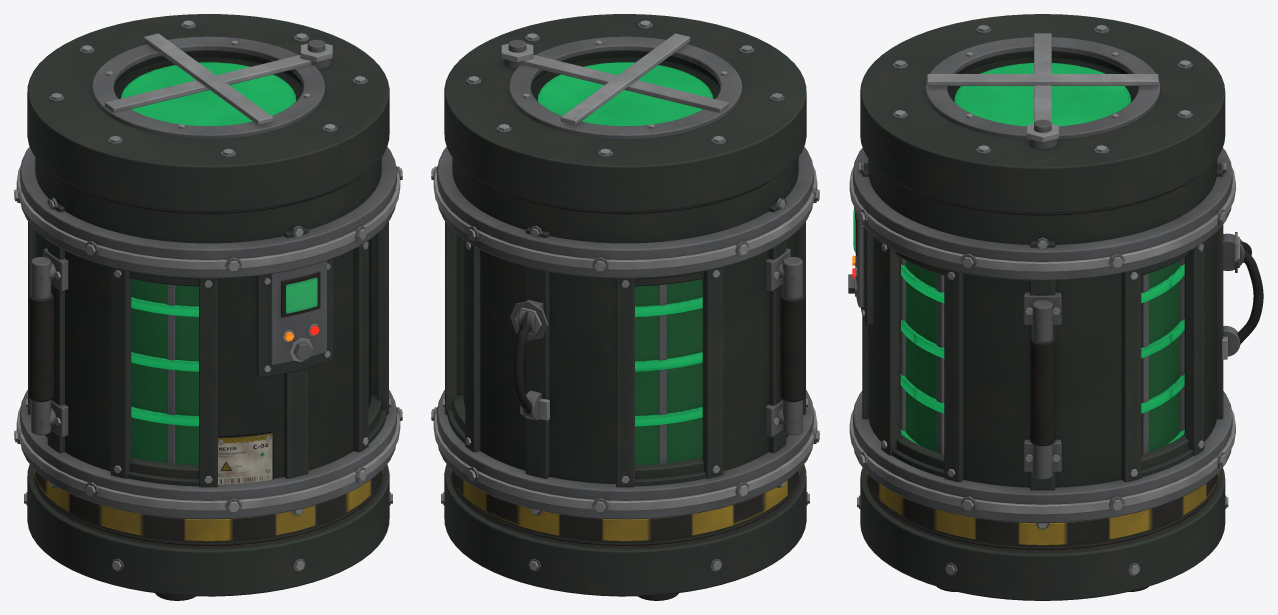
The model's file is core_contencion_hero.glb.
3 views of the same model, side by side, from view 1: azimuth 30°, elevation 25°; view 2: azimuth 150°, elevation 25°; view 3: azimuth 270°, elevation 25° (orthographic).
Visible parts, largest first — view 1: FM_CORE_CONTENCION_HERO; view 2: FM_CORE_CONTENCION_HERO; view 3: FM_CORE_CONTENCION_HERO.
Part boxes in pixels (x1=…): FM_CORE_CONTENCION_HERO: x1=14, y1=14, x2=402, y2=600; FM_CORE_CONTENCION_HERO: x1=431, y1=14, x2=819, y2=600; FM_CORE_CONTENCION_HERO: x1=848, y1=14, x2=1263, y2=600.
Bounding box in the file's own units: 0.5116 × 0.648 × 0.5116.
2 materials, 2 textured.
